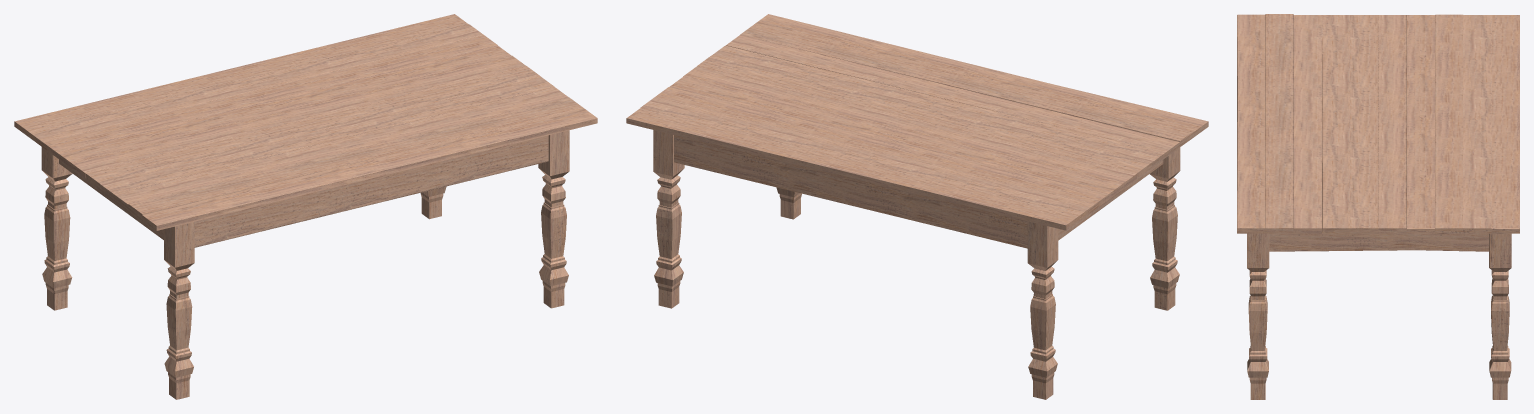
The model's file is tableredo.fbx.
3 renders of one model, left to right at view 1: azimuth 30°, elevation 25°; view 2: azimuth 150°, elevation 25°; view 3: azimuth 270°, elevation 25°, orthographic.
Parts seen in each view (by area): view 1: Plane_002; view 2: Plane_002; view 3: Plane_002.
Boxes of the visible parts, bbox=[...] form: Plane_002: bbox=[14, 14, 597, 399]; Plane_002: bbox=[626, 14, 1208, 399]; Plane_002: bbox=[1237, 14, 1519, 399].
Bounding box in the file's own units: 201 × 81.1 × 112.
1 material, 1 textured.
